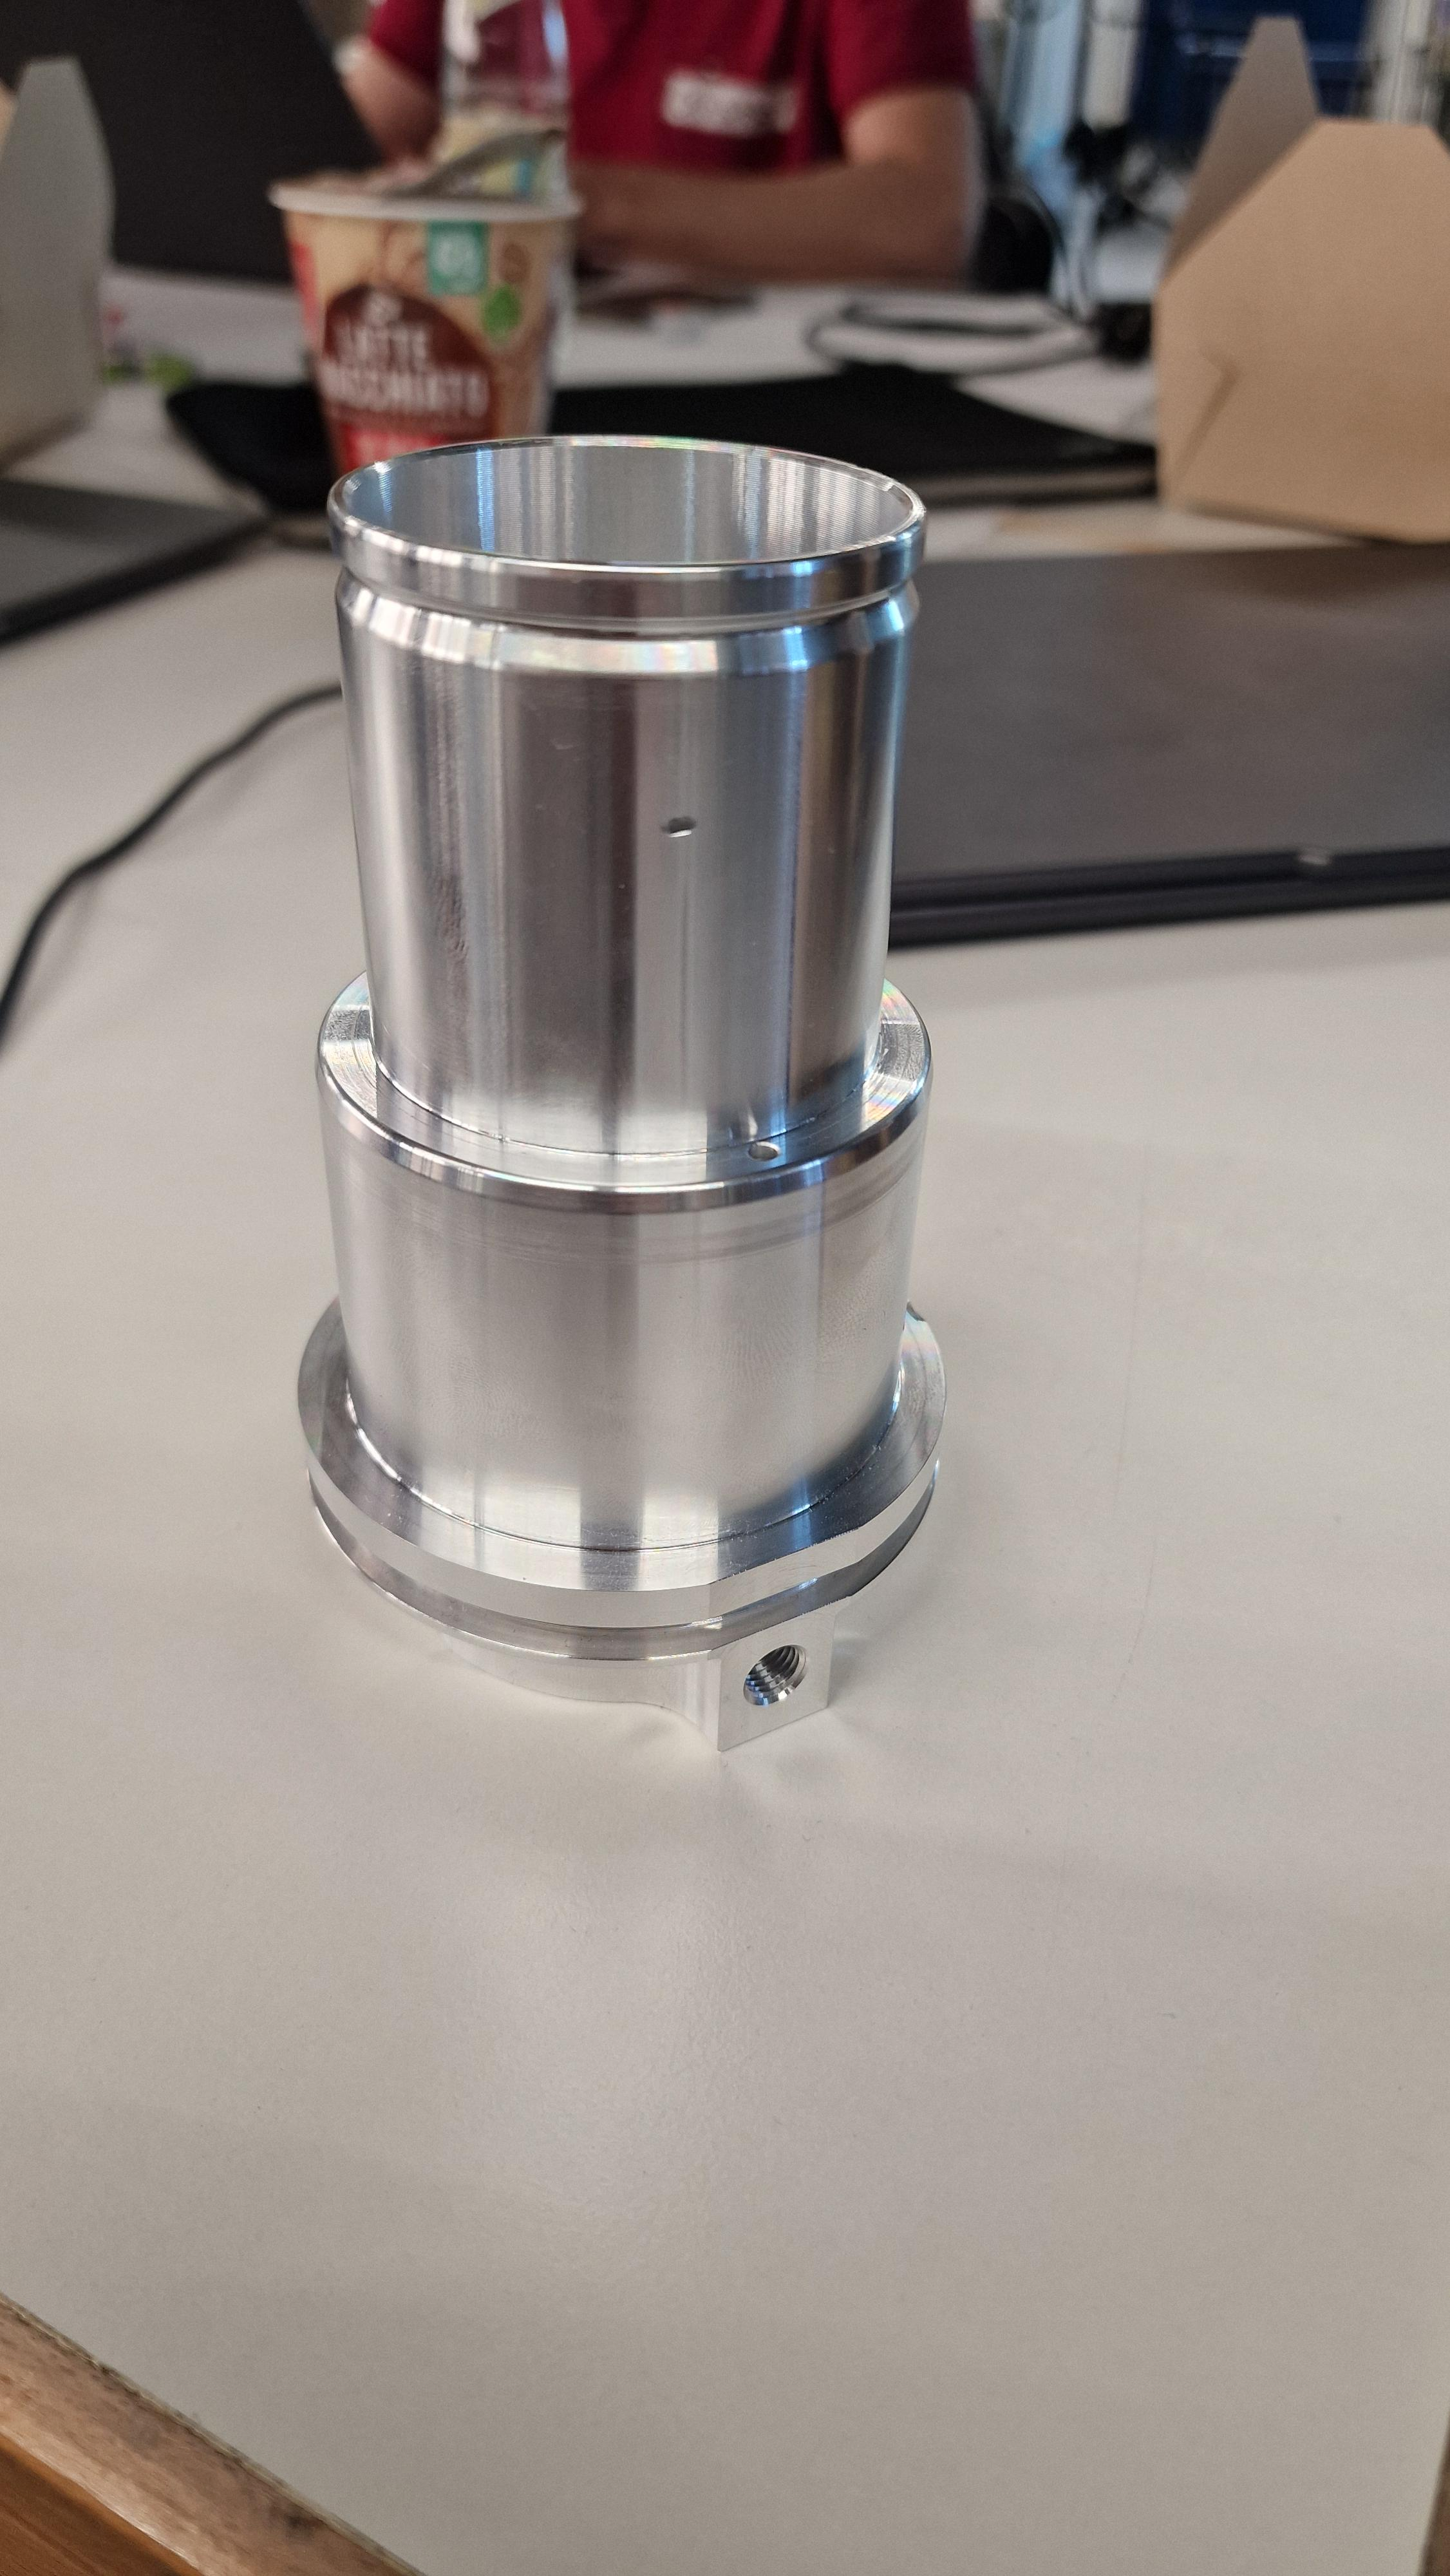damage: (658, 812, 706, 847)
objects: (283, 418, 978, 1767)
